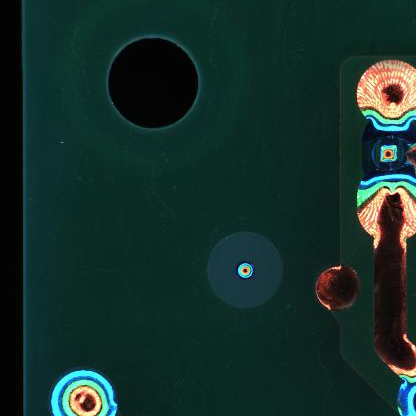spot: (358, 110, 415, 199)
